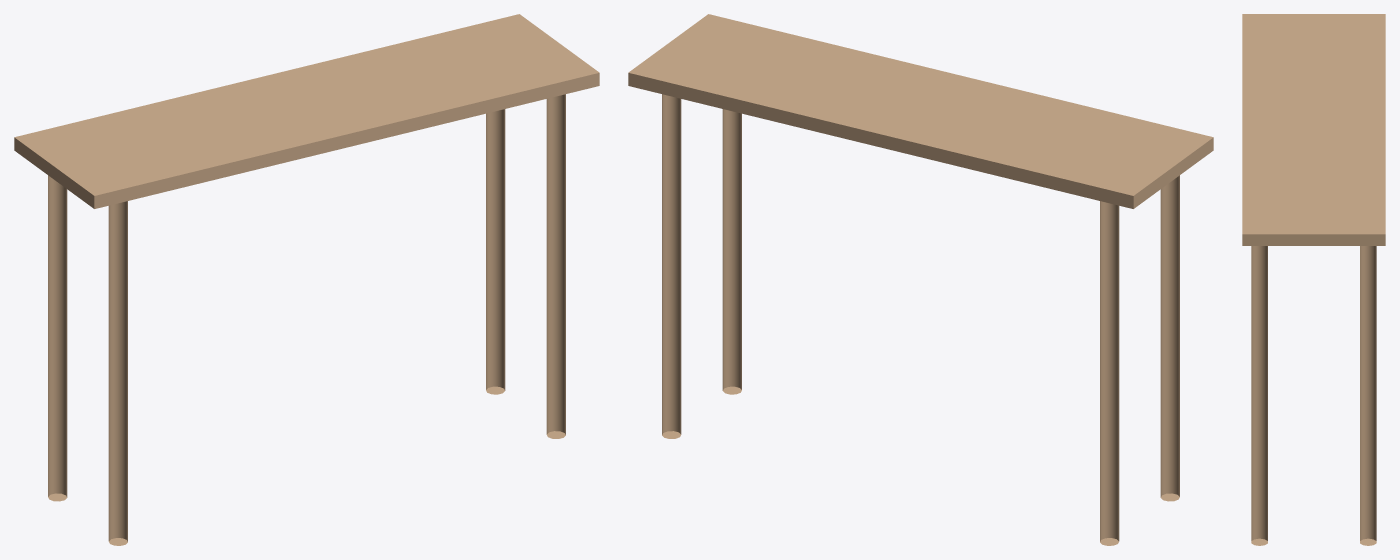
Rendered from console_table_01.glb.
3 views of the same model, side by side, from view 1: azimuth 30°, elevation 25°; view 2: azimuth 150°, elevation 25°; view 3: azimuth 270°, elevation 25° (orthographic). The views are drawn at different scales.
Size of the model in its own units: 1.2 by 0.82 by 0.33.
